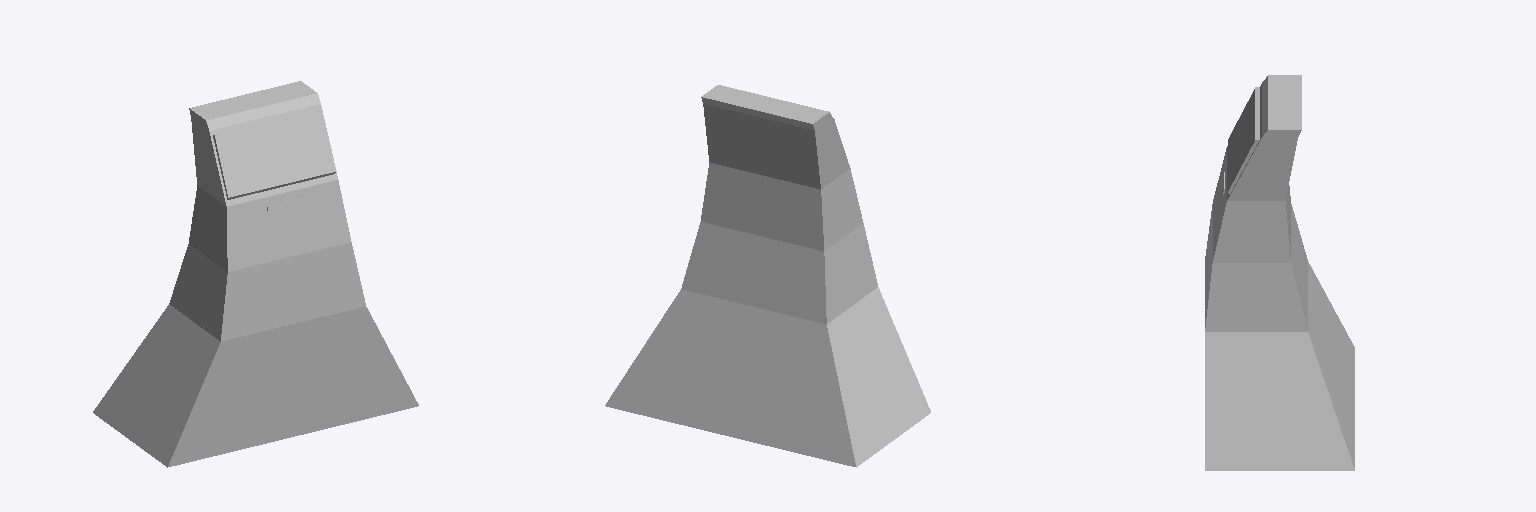
The model's file is terminal.obj.
3 views of the same model, side by side, from view 1: azimuth 30°, elevation 25°; view 2: azimuth 150°, elevation 25°; view 3: azimuth 270°, elevation 25° (orthographic).
Visible parts, largest first — view 1: default; view 2: default; view 3: default.
Part boxes in pixels (left/top/right/bottom): default: left=93, top=81, right=418, bottom=467; default: left=605, top=85, right=930, bottom=467; default: left=1205, top=75, right=1354, bottom=470.
Size of the model in its own units: 7.34 by 8.55 by 3.79.